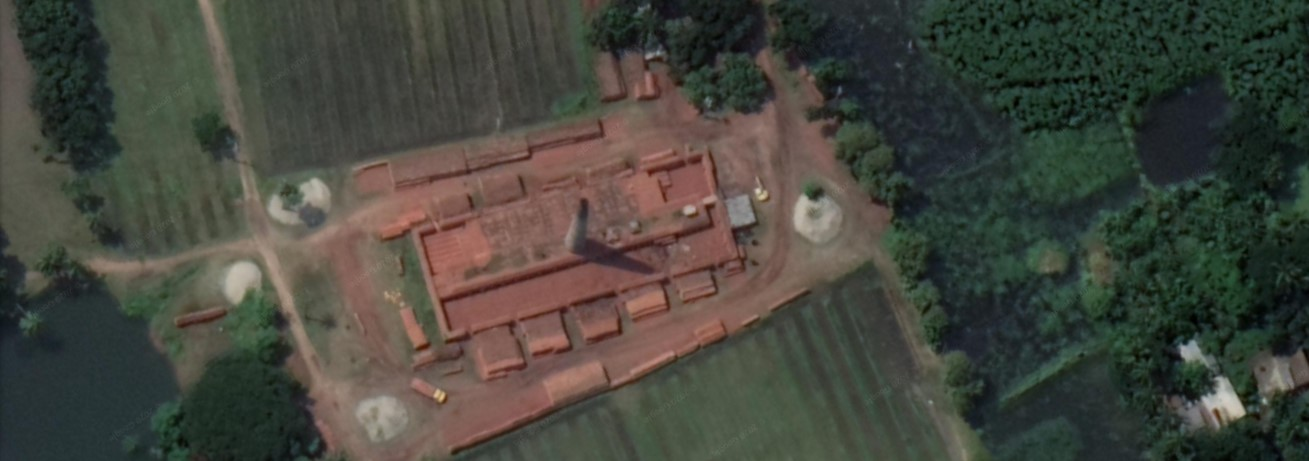kiln: (350, 158, 778, 332)
